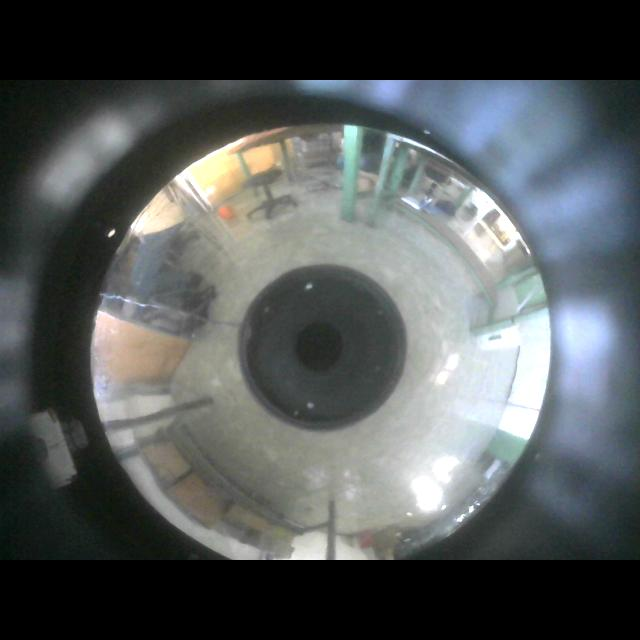bola: (218, 205, 234, 219)
